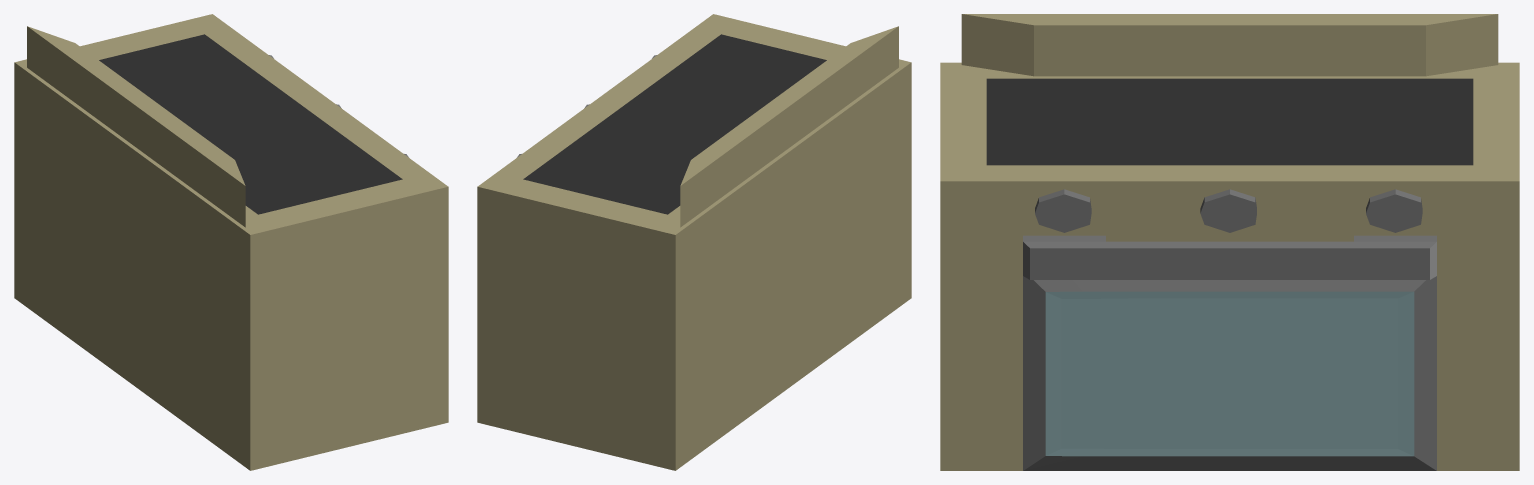
The model's file is Stove.fbx.
3 views of the same model, side by side, from view 1: azimuth 30°, elevation 25°; view 2: azimuth 150°, elevation 25°; view 3: azimuth 270°, elevation 25° (orthographic). The views are drawn at different scales.
Visible parts, largest first — view 1: Stove; view 2: Stove; view 3: Stove.
Part boxes in pixels (<box>): Stove: <box>14,14,448,470</box>; Stove: <box>477,14,911,470</box>; Stove: <box>940,14,1519,470</box>.
Bounding box in the file's own units: 39.97 × 48.84 × 75.27.
